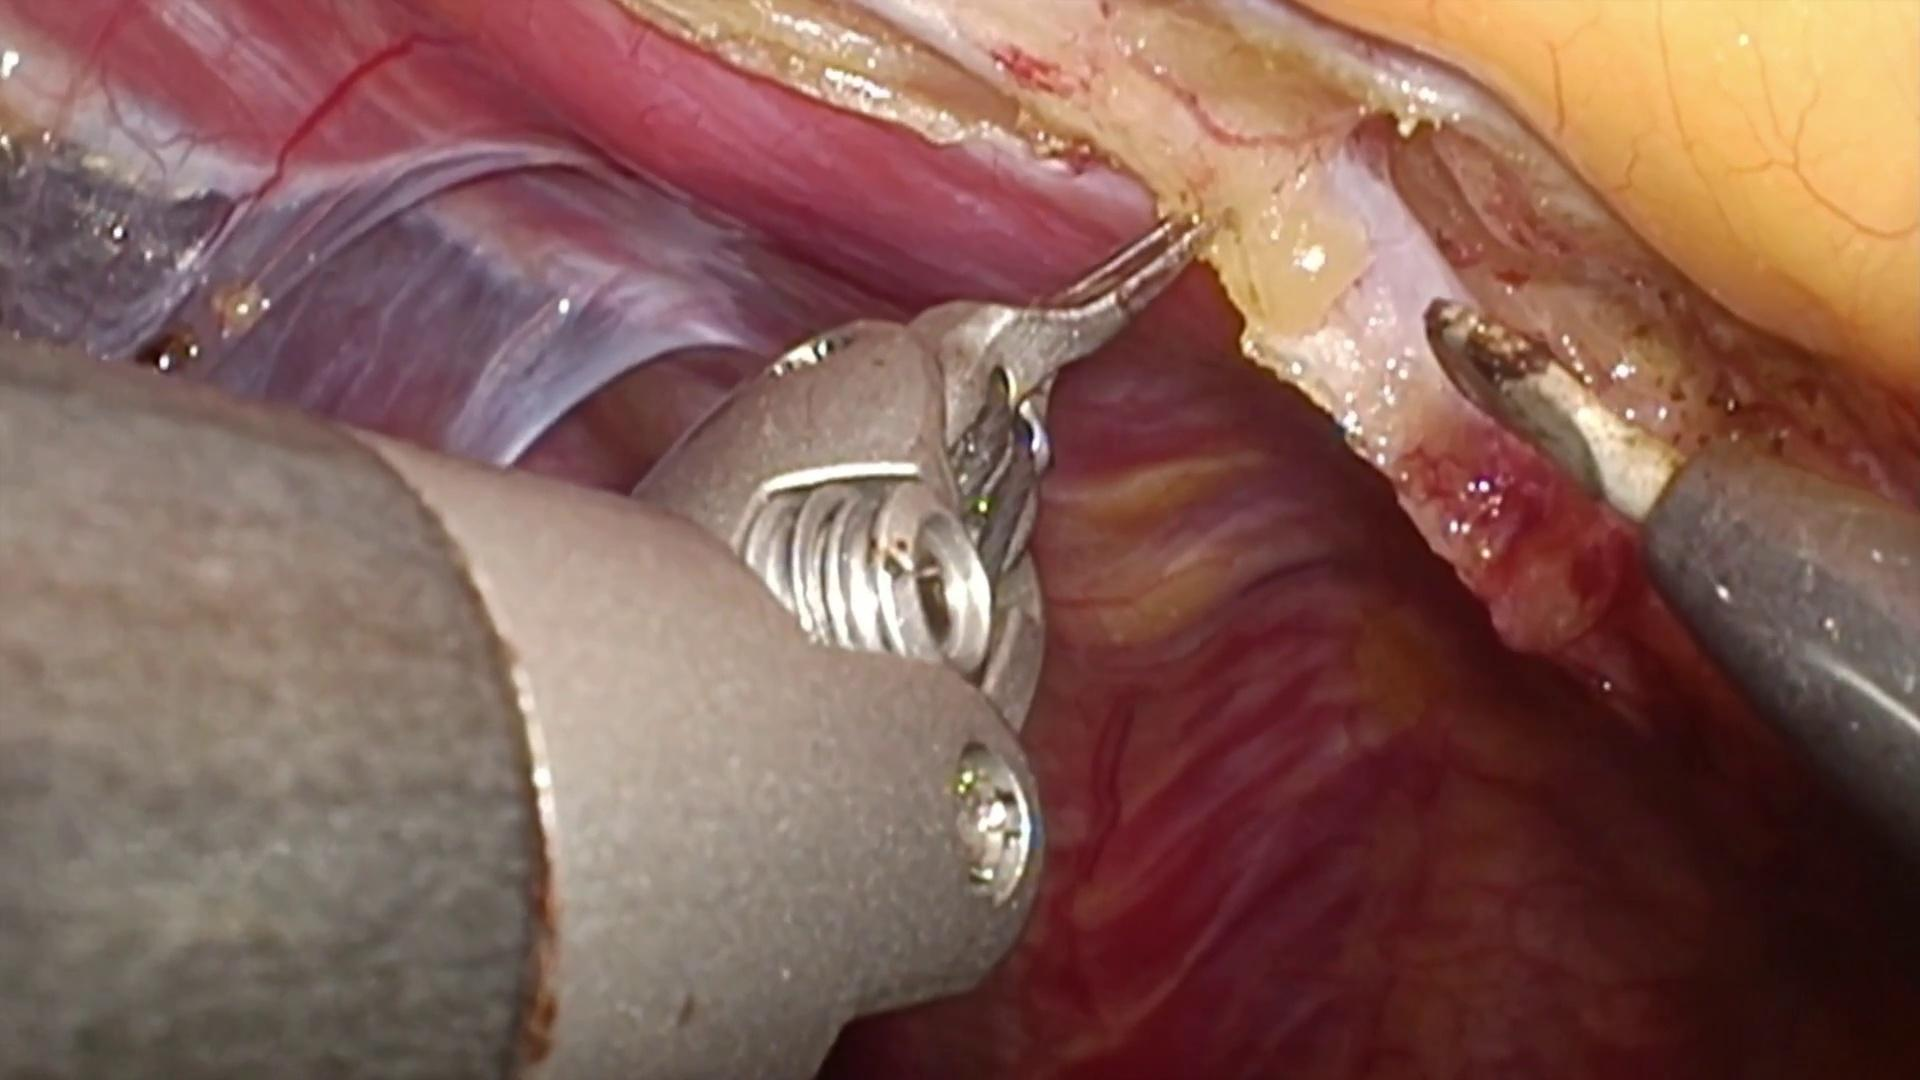Cautery_Spatula: (1428, 297, 1920, 884)
Debakey: (924, 173, 1236, 433)
